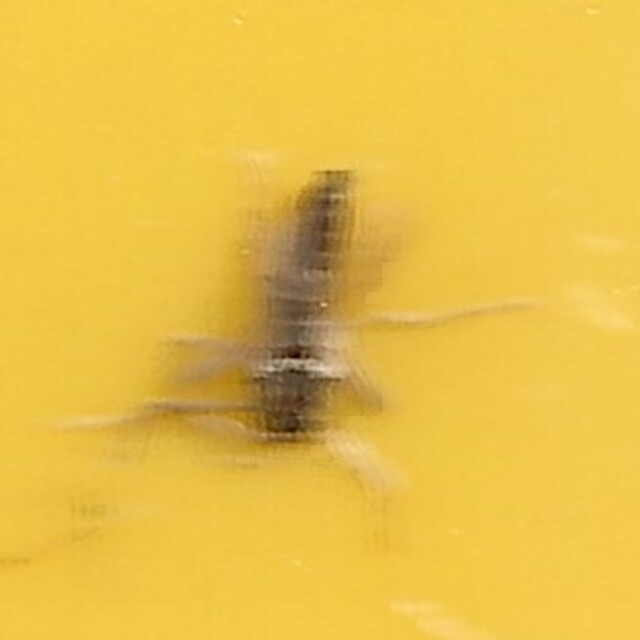Nematocera: (204, 160, 436, 480)
